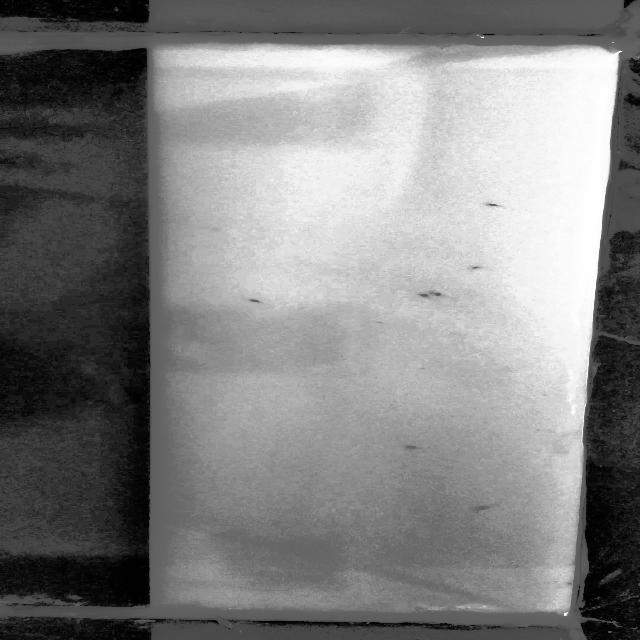shrimp: (422, 288, 463, 302), (399, 441, 426, 453), (469, 502, 498, 513), (408, 292, 435, 302), (246, 298, 270, 308), (486, 201, 506, 210), (467, 265, 485, 271)
